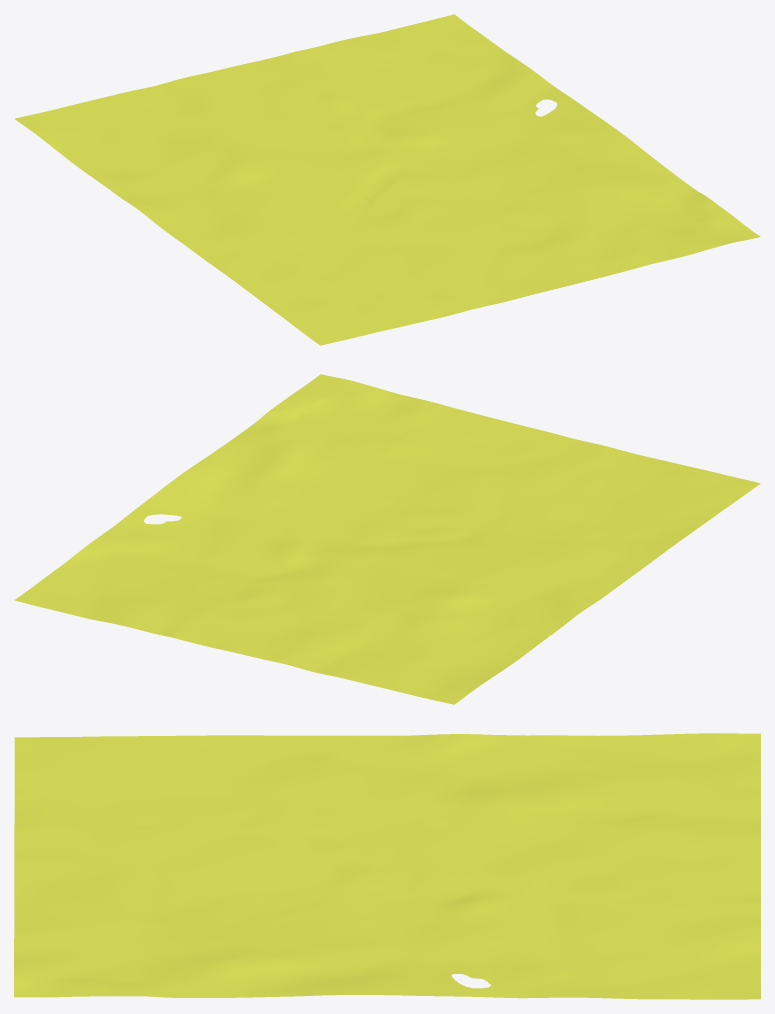
The picture shows the model from 3 angles, top to bottom: view 1: azimuth 30°, elevation 25°; view 2: azimuth 150°, elevation 25°; view 3: azimuth 270°, elevation 25°; orthographic projection. The views are drawn at different scales.
Visible parts, largest first — view 1: 01_TOPOGRAPHY_50M_GGERFS_PREDRILL_1; view 2: 01_TOPOGRAPHY_50M_GGERFS_PREDRILL_1; view 3: 01_TOPOGRAPHY_50M_GGERFS_PREDRILL_1.
Boxes of the visible parts, bbox=[...] form: 01_TOPOGRAPHY_50M_GGERFS_PREDRILL_1: bbox=[14, 14, 760, 345]; 01_TOPOGRAPHY_50M_GGERFS_PREDRILL_1: bbox=[14, 374, 760, 704]; 01_TOPOGRAPHY_50M_GGERFS_PREDRILL_1: bbox=[14, 733, 760, 999].
Size of the model in its own units: 4150 by 42.56 by 5005.
